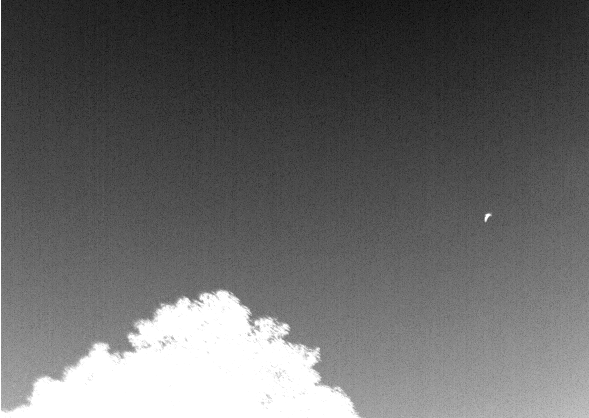dim target: (483, 212, 492, 223)
